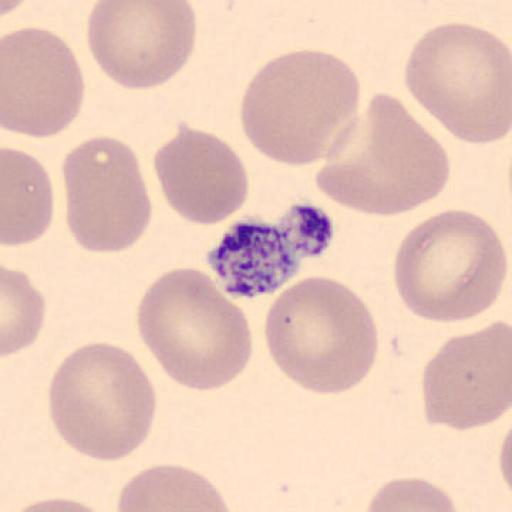RBC: (316, 91, 452, 218), (136, 265, 254, 394), (262, 275, 379, 396), (240, 50, 362, 166), (392, 206, 508, 324), (46, 340, 157, 463), (404, 21, 512, 147), (62, 134, 153, 254), (421, 320, 512, 432), (85, 1, 198, 91), (152, 126, 250, 226), (2, 26, 86, 140), (114, 464, 234, 512), (2, 146, 55, 248), (2, 265, 46, 358), (362, 475, 460, 512), (2, 495, 115, 512), (496, 413, 512, 511), (498, 425, 512, 500), (2, 0, 29, 18)
